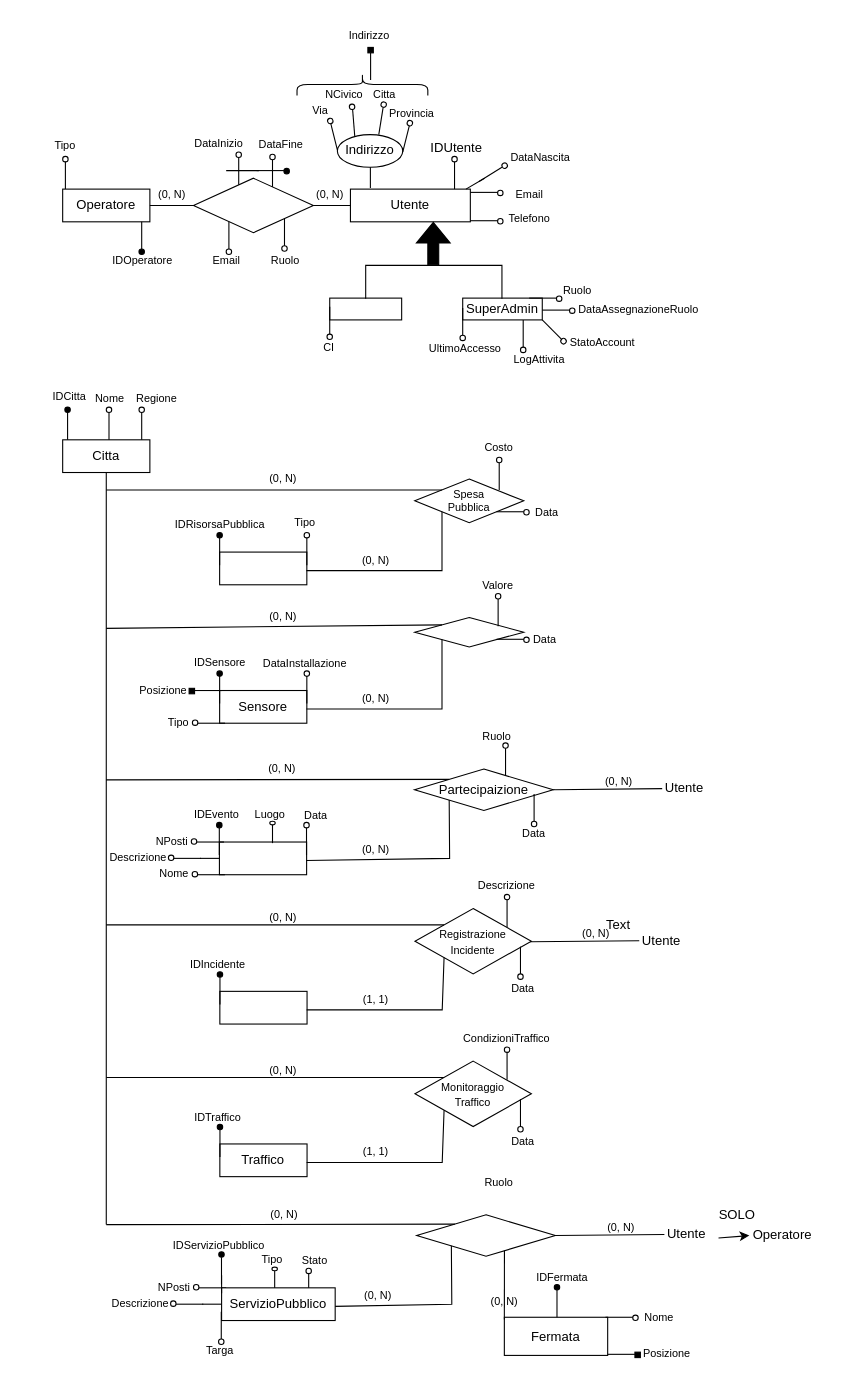
Image size: 845x1388. Some labels were removed from this diagram. The centre of each missing label's shape, as x and y in pixels:
Cittadino: point 365,308
Dato: point 469,631
Evento: point 262,858
Incidente: point 263,1007
Professione: point 252,205
Risorsa Pubblica: point 263,568
Tragitto: point 485,1235
